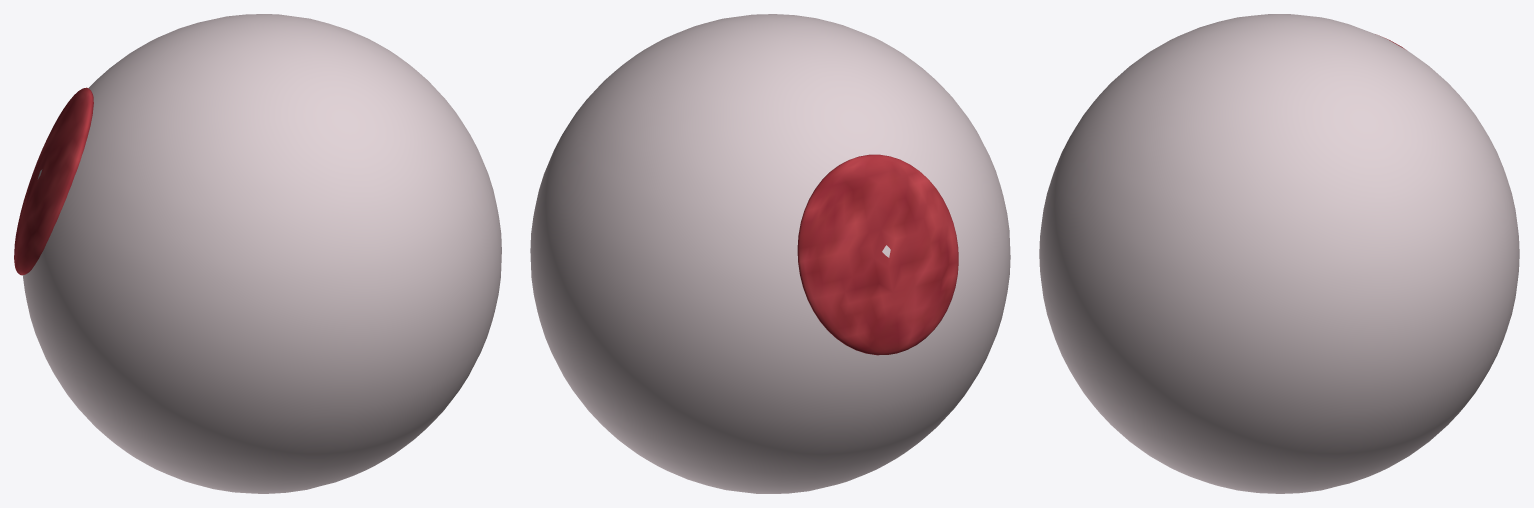
File: hafta_11.glb
3 renders of one model, left to right at view 1: azimuth 30°, elevation 25°; view 2: azimuth 150°, elevation 25°; view 3: azimuth 270°, elevation 25°, orthographic.
Parts seen in each view (by area): view 1: Amniyon_kesesi, Plasenta; view 2: Amniyon_kesesi, Plasenta; view 3: Amniyon_kesesi.
Boxes of the visible parts, box(x1,y1,x2,y2) form: Amniyon_kesesi: box(22, 14, 501, 493); Plasenta: box(14, 87, 93, 275); Amniyon_kesesi: box(530, 14, 1010, 493); Plasenta: box(797, 154, 958, 355); Amniyon_kesesi: box(1039, 14, 1519, 493).
Bounding box in the file's own units: 1.41 × 1.41 × 1.41.
